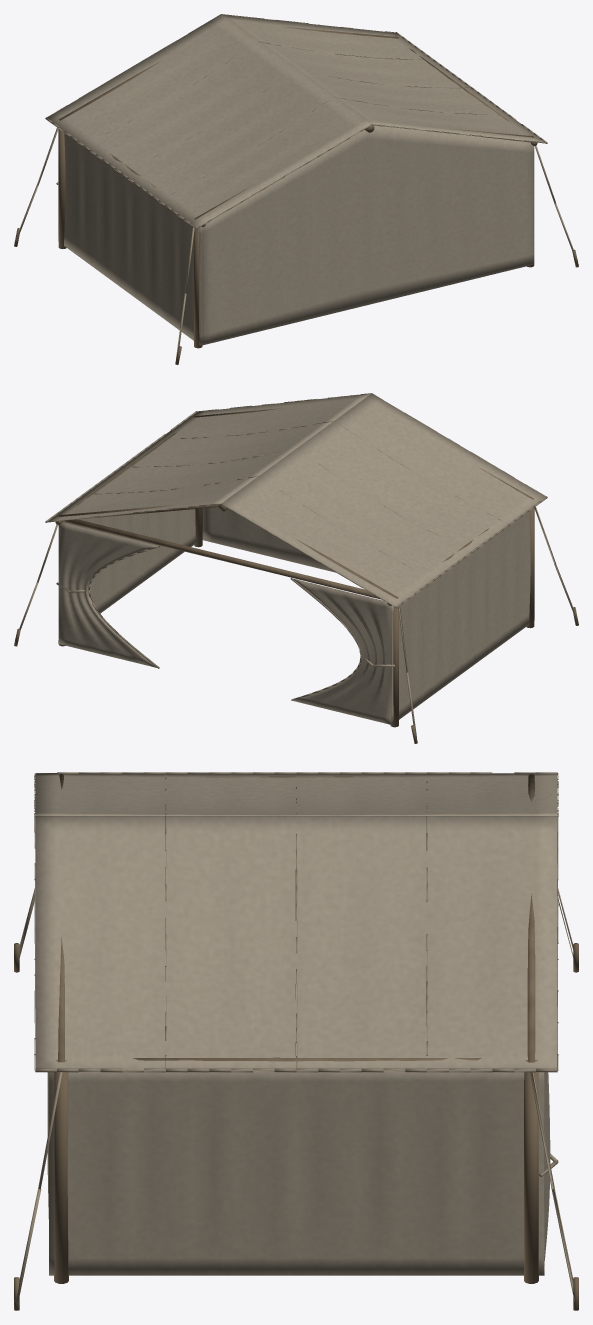
File: CanvasDetails.fbx
The picture shows the model from 3 angles, top to bottom: view 1: azimuth 30°, elevation 25°; view 2: azimuth 150°, elevation 25°; view 3: azimuth 270°, elevation 25°; orthographic projection. The views are drawn at different scales.
Parts seen in each view (by area): view 1: CanvasDetails.001; view 2: CanvasDetails.001; view 3: CanvasDetails.001.
Boxes of the visible parts, <box> form: CanvasDetails.001: <box>14,14,578,364</box>; CanvasDetails.001: <box>14,393,578,743</box>; CanvasDetails.001: <box>14,772,578,1310</box>.
Size of the model in its own units: 705 by 313 by 493.
1 material, 1 textured.
